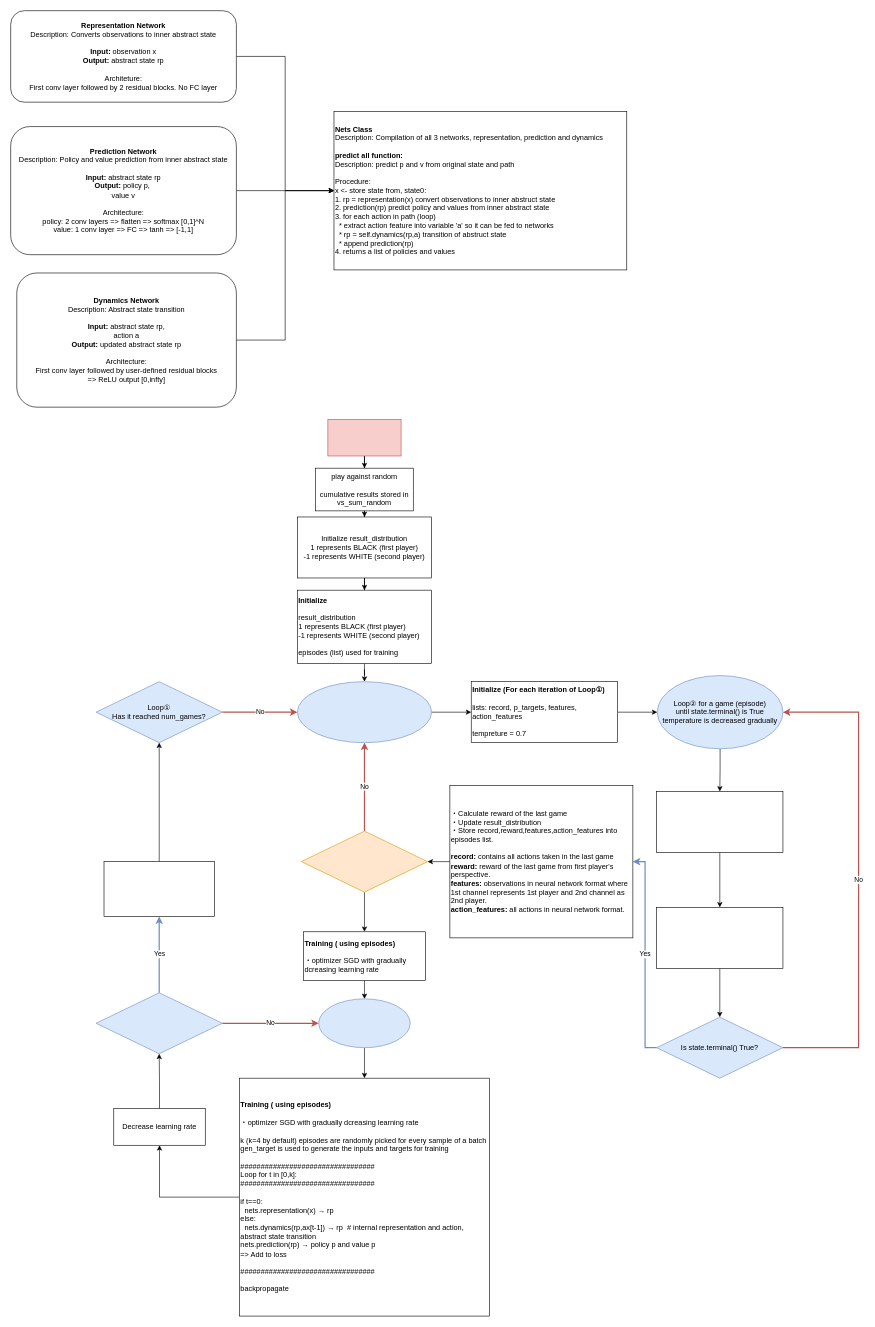
This 875x1327 diagram has some shape labels left out. The centre of each missing label's shape, as x and y in pixels:
"Instantiate Nets" belongs at [364,437].
"Is number of games playes so far + 1 divisible by num_train_steps?" belongs at [364,861].
"Loop① until reach num_games train networks every num_train_steps games" belongs at [364,712].
"Loop③ Has it reached num_epochs?" belongs at [158,1023].
"Loop③ until reach num_epochs" belongs at [364,1023].
"play against random record all games total outcomes in vs_random_sum" belongs at [158,889].
"temperature is decreased by 20%" belongs at [719,937].
